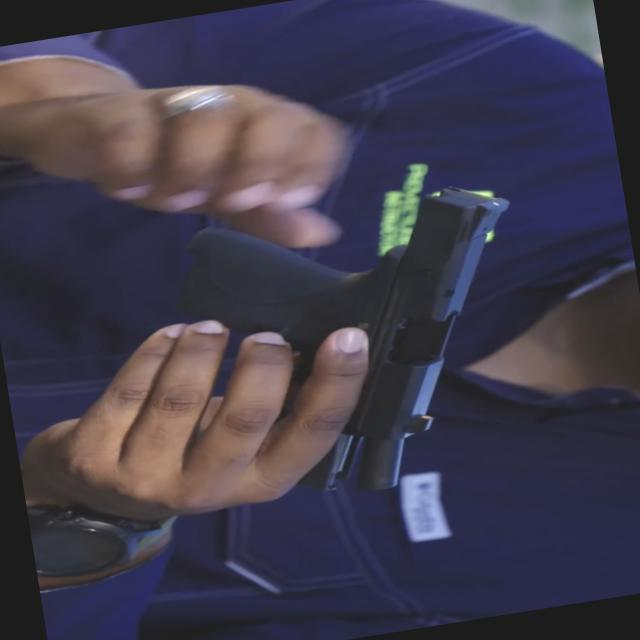handgun: (160, 163, 521, 549)
